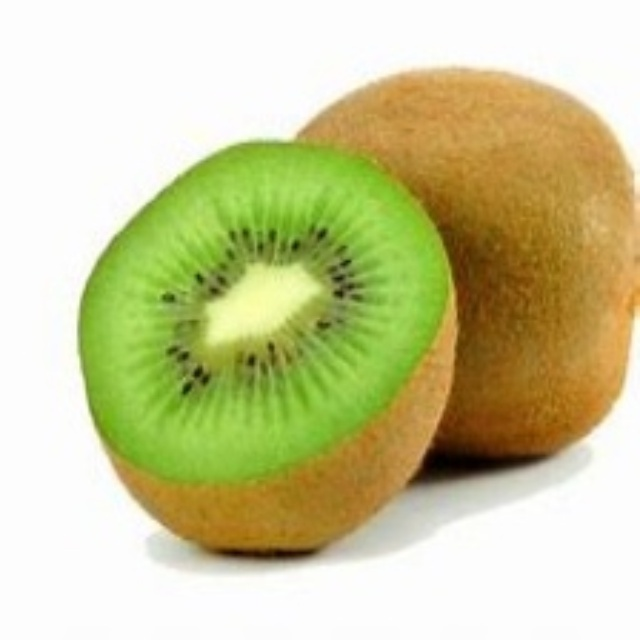kiwi: (74, 136, 466, 557), (285, 67, 636, 461)
